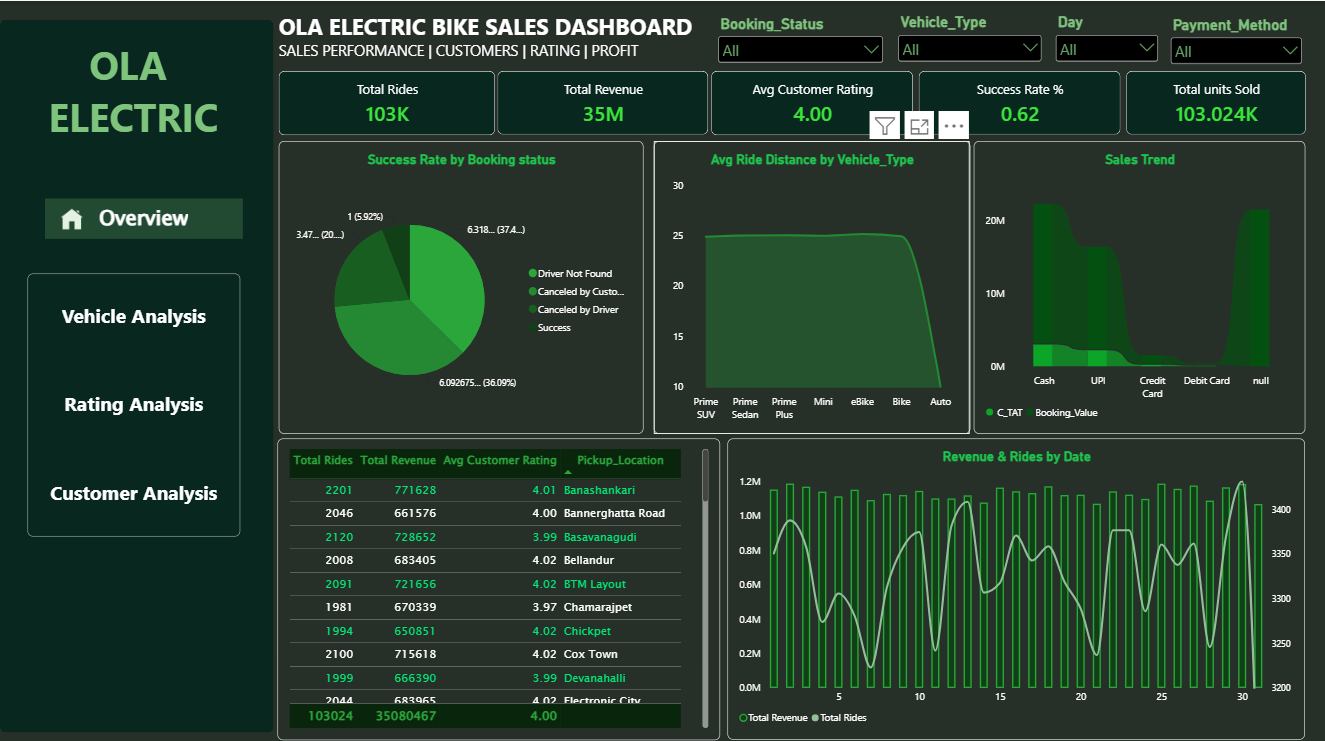

This screenshot's page, from the dashboard's own definition file:
{"tool":"powerbi","page":{"name":"Overview","canvas":[1920,1080],"ordinal":0},"visuals":[{"type":"cardVisual","fields":{"Data":["Count(July.Booking_ID)"]},"box":[1630,101,260,92],"z":0},{"type":"cardVisual","fields":{"Data":["July.Avg Customer Rating"]},"box":[1029,101,292.3,93.1],"z":1000},{"type":"cardVisual","fields":{"Data":["July.Total Revenue"]},"box":[720,101,305.4,92.3],"z":2000},{"type":"shape","box":[0,28,396,1032],"z":3000},{"type":"slicer","fields":{"Values":["July.Booking_Status"]},"box":[1036,20,248,84],"z":4000},{"type":"slicer","fields":{"Values":["July.Date.Variation.Date Hierarchy.Day"]},"box":[1524,19,158,76],"z":5000},{"type":"slicer","fields":{"Values":["July.Vehicle_Type"]},"box":[1295,19,217.3,76.1],"z":6000},{"type":"slicer","fields":{"Values":["July.Payment_Method"]},"box":[1691,22,199,73],"z":7000},{"type":"cardVisual","fields":{"Data":["July.Total Rides"]},"box":[403,101,313,93],"z":8000},{"type":"cardVisual","fields":{"Data":["July.Success Rate %"]},"box":[1330,101,292.3,92.3],"z":9000},{"type":"lineStackedColumnComboChart","title":"Revenue & Rides by Date","fields":{"Category":["July.Date.Variation.Date Hierarchy.Day"],"Y":["July.Total Revenue"],"Y2":["July.Total Rides"]},"box":[1054,634,836,436],"z":10000},{"type":"tableEx","fields":{"Values":["July.Total Rides","July.Total Revenue","July.Avg Customer Rating","July.Pickup_Location"]},"box":[402.2,633.3,641.1,436.7],"z":11000},{"type":"areaChart","fields":{"Category":["July.Vehicle_Type"],"Y":["July.Avg Ride Distance"]},"box":[946,202,458,424],"z":12000},{"type":"pieChart","title":"Success Rate  by Booking status","fields":{"Category":["July.Booking_Status"],"Y":["July.Success Rate %"]},"box":[404,202,528,424],"z":13000},{"type":"textbox","box":[403,15,691,80],"z":14000},{"type":"image","box":[84,300,41.8,31.8],"z":15000},{"type":"pageNavigator","box":[40,394,308.3,380.7],"z":16000},{"type":"pageNavigator","title":"Overview","box":[66,286,286.4,58.2],"z":17000},{"type":"textbox","box":[22,54,342,186],"z":18000},{"type":"ribbonChart","title":"Sales Trend","fields":{"Category":["July.Payment_Method"],"Y":["Sum(July.C_TAT)","Sum(July.Booking_Value)"]},"box":[1410,202,480,424],"z":19000}]}

Visuals, with their boxes in screenshot pixels (x1, y1, x2, y2), scaled from the page's 1920x1080 canvas onto the 1325x741 screenshot:
cardVisual - Count(July.Booking_ID): rect(1125, 69, 1304, 132)
cardVisual - July.Avg Customer Rating: rect(710, 69, 912, 133)
cardVisual - July.Total Revenue: rect(497, 69, 708, 133)
shape: rect(0, 19, 273, 727)
slicer - July.Booking_Status: rect(715, 14, 886, 71)
slicer - July.Date.Variation.Date Hierarchy.Day: rect(1052, 13, 1161, 65)
slicer - July.Vehicle_Type: rect(894, 13, 1044, 65)
slicer - July.Payment_Method: rect(1167, 15, 1304, 65)
cardVisual - July.Total Rides: rect(278, 69, 494, 133)
cardVisual - July.Success Rate %: rect(918, 69, 1120, 133)
"Revenue & Rides by Date" lineStackedColumnComboChart: rect(727, 435, 1304, 734)
tableEx - July.Total Rides x July.Total Revenue: rect(278, 435, 720, 734)
areaChart - July.Vehicle_Type x July.Avg Ride Distance: rect(653, 139, 969, 430)
"Success Rate  by Booking status" pieChart: rect(279, 139, 643, 430)
textbox: rect(278, 10, 755, 65)
image: rect(58, 206, 87, 228)
pageNavigator: rect(28, 270, 240, 532)
"Overview" pageNavigator: rect(46, 196, 243, 236)
textbox: rect(15, 37, 251, 165)
"Sales Trend" ribbonChart: rect(973, 139, 1304, 430)
